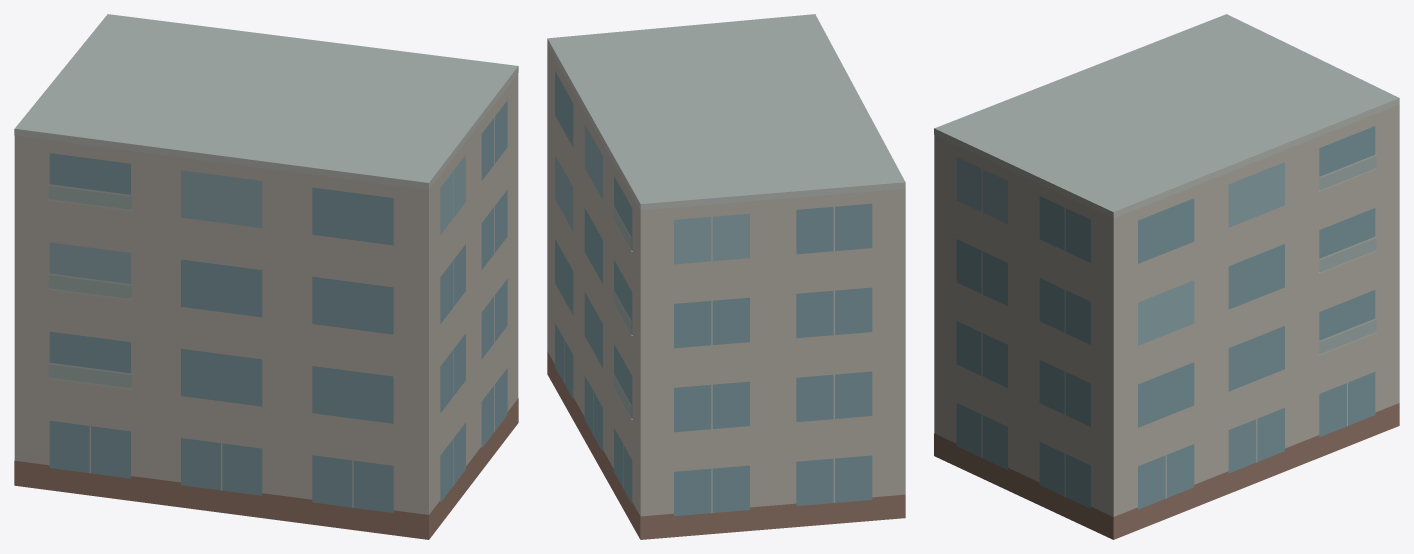
The model's file is survey-upis-32718079.glb.
3 renders of one model, left to right at view 1: azimuth 30°, elevation 25°; view 2: azimuth 150°, elevation 25°; view 3: azimuth 270°, elevation 25°, orthographic. The views are drawn at different scales.
Parts seen in each view (by area): view 1: survey-upis-32718079.tmp; view 2: survey-upis-32718079.tmp; view 3: survey-upis-32718079.tmp.
Boxes of the visible parts, x1,y1,x2,y2 form: survey-upis-32718079.tmp: (14,14,518,539); survey-upis-32718079.tmp: (547,14,905,539); survey-upis-32718079.tmp: (934,14,1399,539).
Size of the model in its own units: 16.61 by 12.8 by 16.49.
